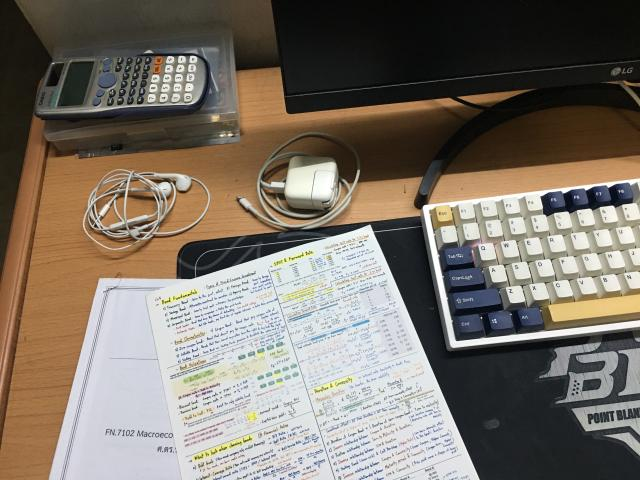paper: (146, 226, 478, 479), (49, 279, 184, 479)
wire: (238, 132, 360, 229), (82, 169, 210, 250)
